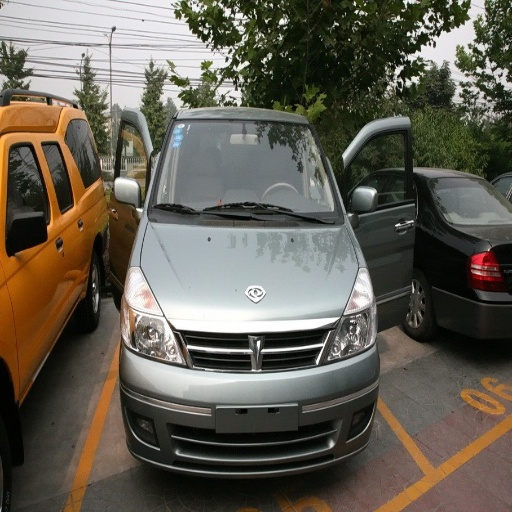back_bumper: (458, 302, 510, 338)
back_glass: (457, 181, 507, 220)
front_bumper: (121, 317, 375, 475)
front_glass: (153, 121, 342, 222)
front_left_door: (13, 236, 64, 354)
front_left_light: (322, 274, 374, 364)
front_right_light: (122, 268, 182, 365)
hood: (141, 213, 359, 331)
